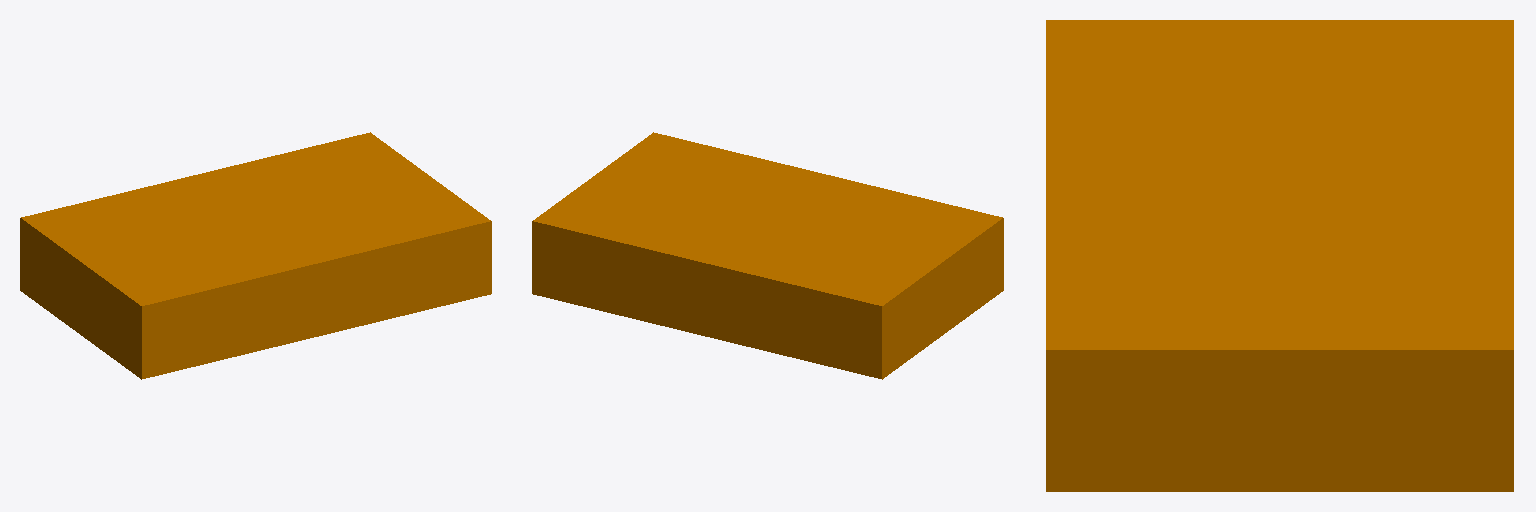
URDF robot description (mycar):
<?xml version="1.0"?>
<robot name="mycar">
    <link name="base_link">
        <visual>
            <origin xyz="0.0 0.0 0.0" rpy="0.0 0.0 0.0"/>
            <geometry>
                <box size="0.5  0.3 0.1"/>
            </geometry>

            <material name="yellow">
                <color rgba="0.8 0.5 0.0 0.5"/>
            </material>

        </visual>

        <collision>
            <origin xyz="0.0 0.0 0.0" rpy="0.0 0.0 0.0"/>
            <geometry>
                <box size="0.5  0.3 0.1"/>
            </geometry>
        </collision>

        <inertial>
            <origin xyz="0.0 0.0 0.0" rpy="0.0 0.0 0.0"/>
            <mass value="2"/>
            <inertia ixx="1" ixy="0.0" ixz="0.0" iyy="0.0" iyz="1" izz="1"/>
        </inertial>
    </link>
    <gazebo reference="base_link">
        <material>Gazebo/Red</material>
    </gazebo>

</robot>

--- Facts derived from the render (not from the file) ---
Views: 3 orthographic renders of the robot side by side, from view 1: azimuth 30°, elevation 25°; view 2: azimuth 150°, elevation 25°; view 3: azimuth 270°, elevation 25°.
Model mycar with 1 links and 0 joints (none), rooted at base_link, posed all joints at 0.
Links seen in each view (by area): view 1: base_link; view 2: base_link; view 3: base_link.
Boxes of the visible links, x1=… form: base_link: x1=20, y1=132, x2=491, y2=379; base_link: x1=532, y1=132, x2=1003, y2=379; base_link: x1=1046, y1=20, x2=1513, y2=491.
Bounding box of the posed robot: 0.5 × 0.3 × 0.1 m (x, y, z).
Geometry: primitives only (box / cylinder / sphere), no mesh files.